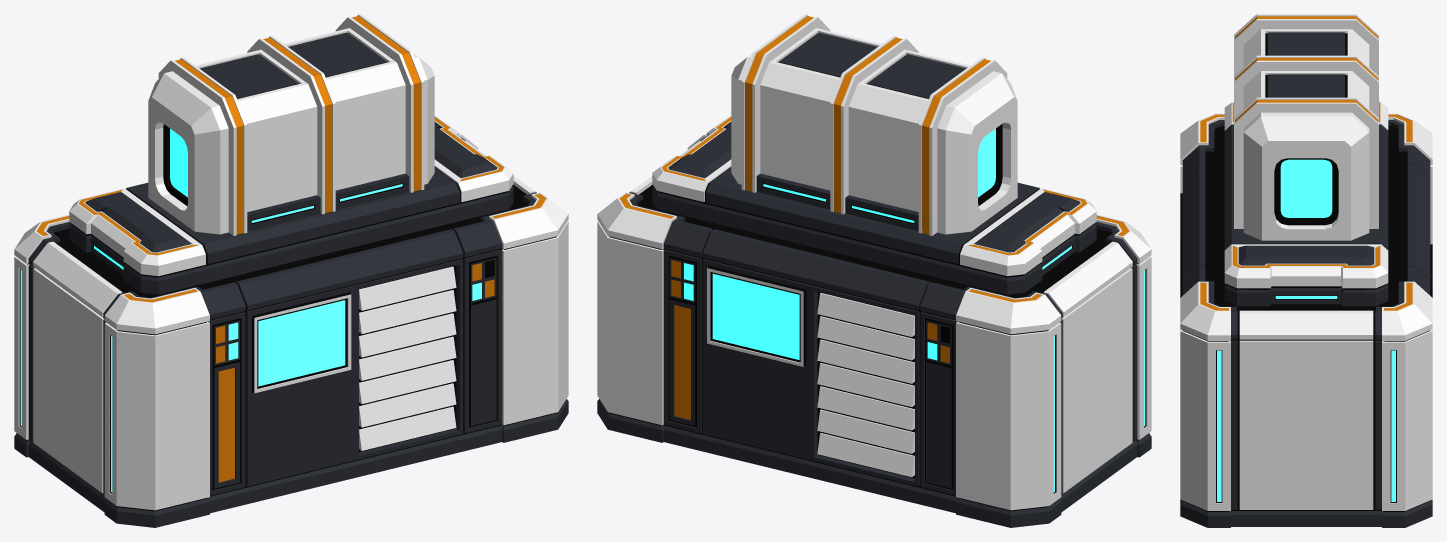
Rendered from SM_Nuclear_T1.fbx.
The picture shows the model from 3 angles, left to right: view 1: azimuth 30°, elevation 25°; view 2: azimuth 150°, elevation 25°; view 3: azimuth 270°, elevation 25°; orthographic projection. The views are drawn at different scales.
Visible parts, largest first — view 1: SM_Nuclear_T1; view 2: SM_Nuclear_T1; view 3: SM_Nuclear_T1.
Part boxes in pixels (x1,y1,x2,y2): SM_Nuclear_T1: (14,14,568,527); SM_Nuclear_T1: (597,14,1151,527); SM_Nuclear_T1: (1180,14,1432,527).
Bounding box in the file's own units: 200 × 159 × 100.
